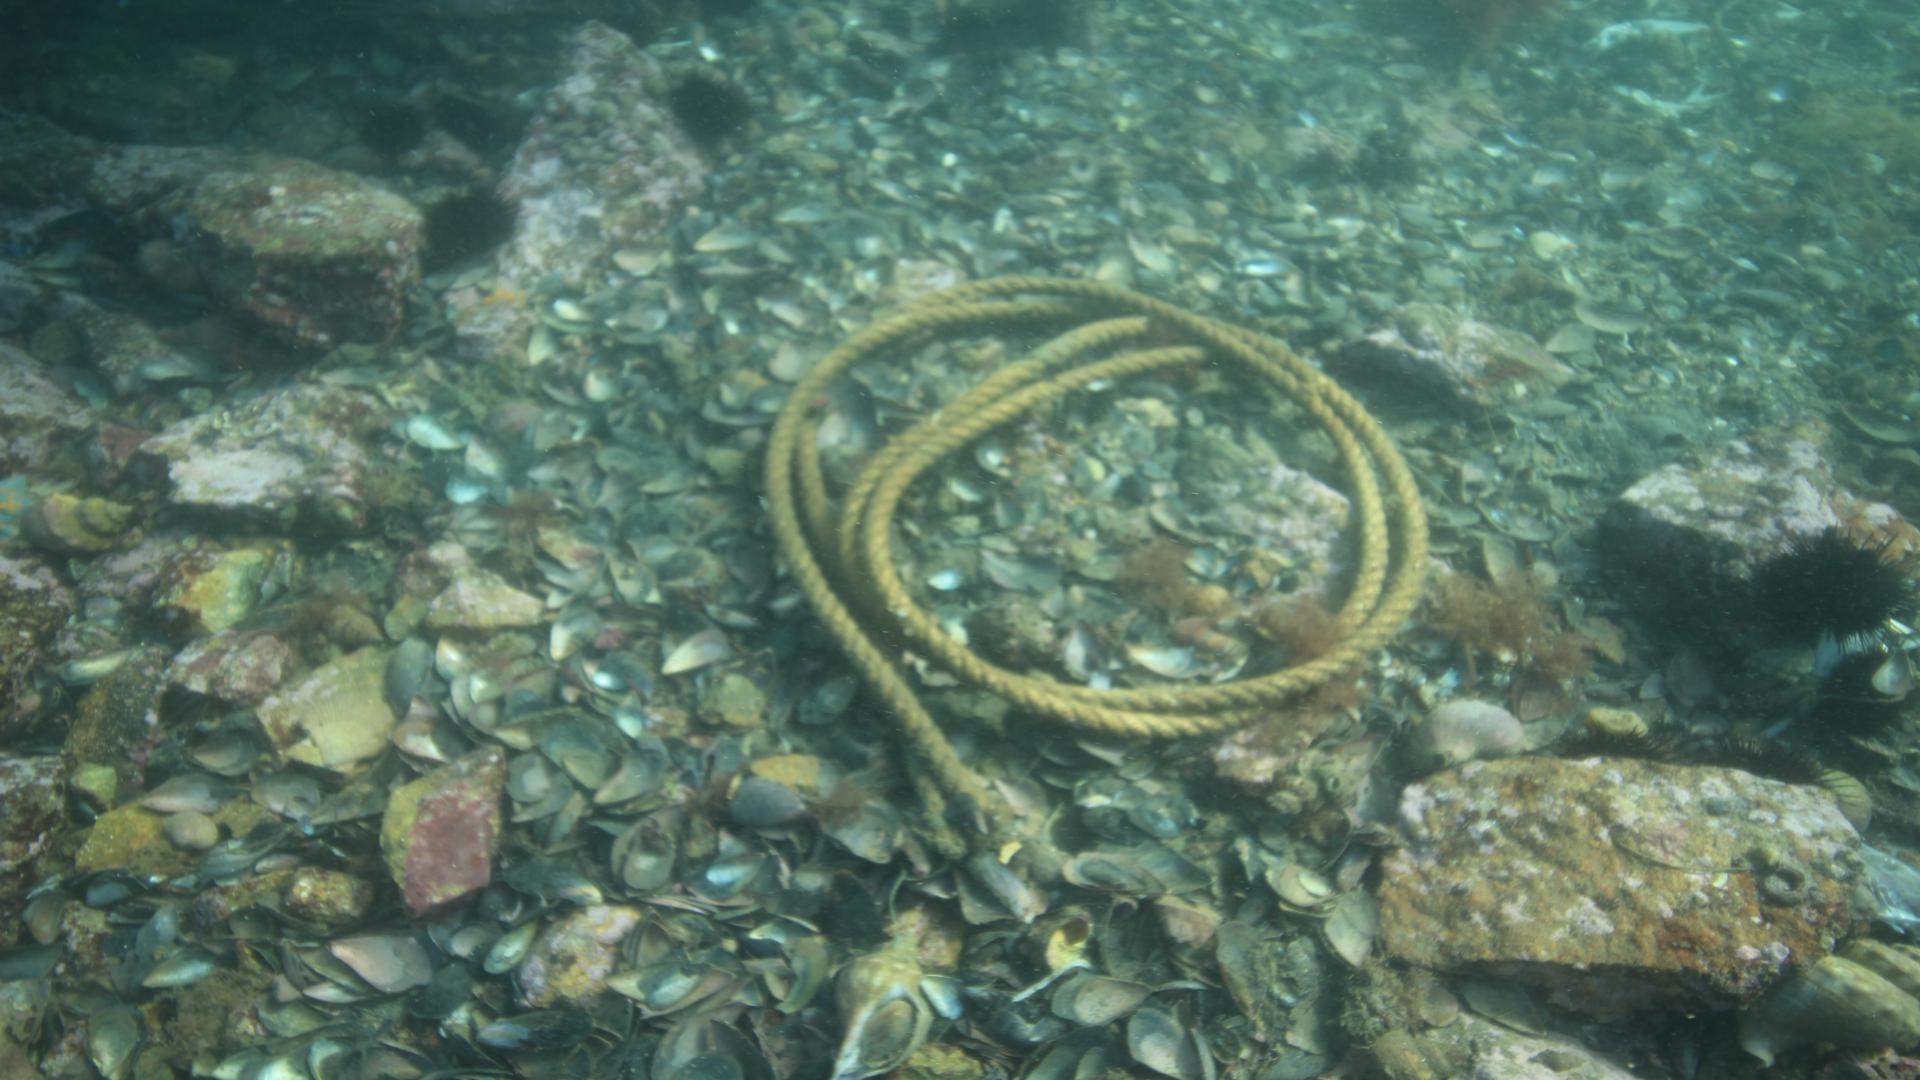bundle of ropes: (756, 269, 1435, 787)
